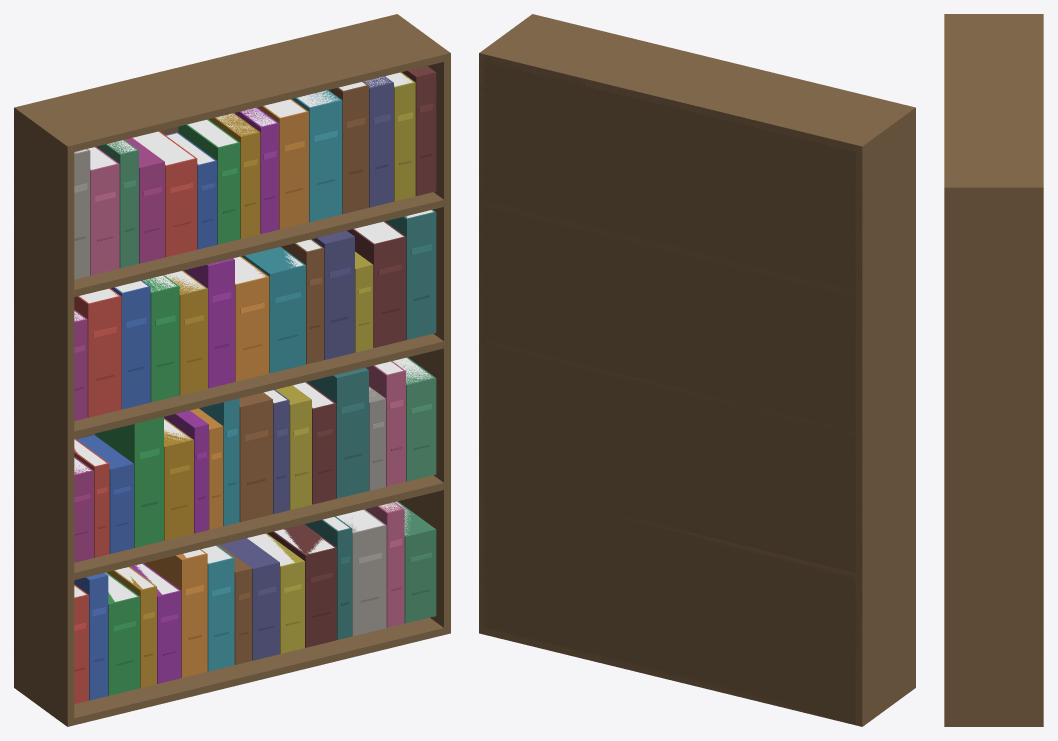
Rendered from Bookshelf.glb.
The picture shows the model from 3 angles, left to right: view 1: azimuth 30°, elevation 25°; view 2: azimuth 150°, elevation 25°; view 3: azimuth 270°, elevation 25°; orthographic projection. The views are drawn at different scales.
Parts seen in each view (by area): view 1: Books, Shelf; view 2: Shelf; view 3: Shelf.
Part boxes in pixels (x1,y1,x2,y2): Books: [74, 66, 436, 704]; Shelf: [14, 14, 450, 726]; Shelf: [479, 14, 915, 726]; Shelf: [944, 14, 1043, 726].
Size of the model in its own units: 1.24 by 1.8 by 0.3.
